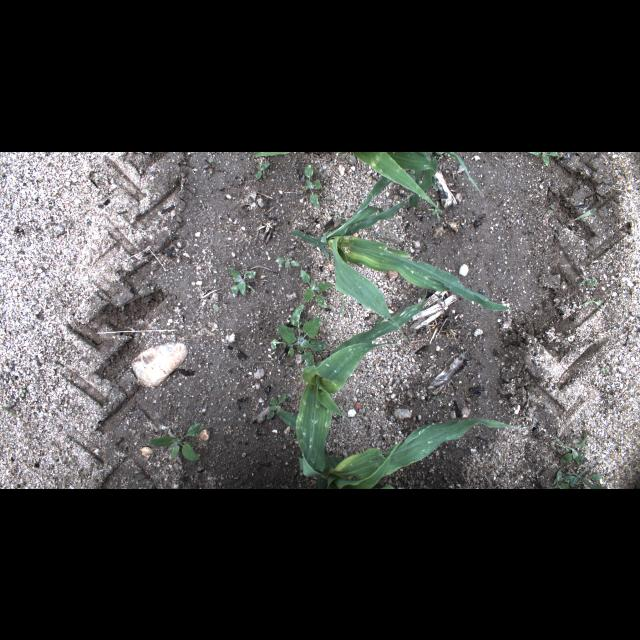crop: (292, 168, 508, 348), (296, 290, 426, 478), (276, 410, 522, 488), (253, 151, 482, 213)
weed: (270, 304, 328, 368), (148, 421, 205, 461), (300, 268, 332, 308), (554, 430, 586, 466), (303, 163, 323, 207), (227, 266, 255, 296), (564, 469, 608, 488), (567, 206, 597, 222), (266, 394, 286, 418), (544, 468, 568, 488), (528, 152, 560, 166), (276, 254, 300, 268), (254, 160, 270, 180), (578, 274, 596, 288), (429, 200, 443, 218), (204, 156, 216, 174), (582, 297, 602, 307), (2, 406, 16, 416), (546, 203, 556, 213), (20, 387, 28, 397), (564, 195, 570, 208), (600, 366, 606, 374), (213, 304, 220, 310), (431, 394, 437, 400), (327, 194, 335, 198), (144, 186, 152, 190)
